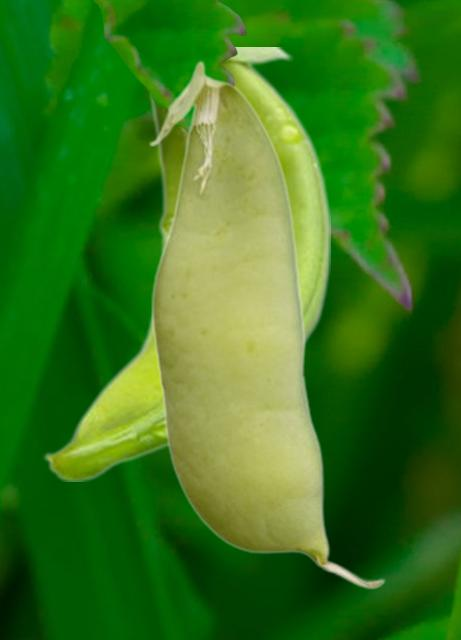pea: (148, 60, 386, 589), (42, 47, 329, 480)
